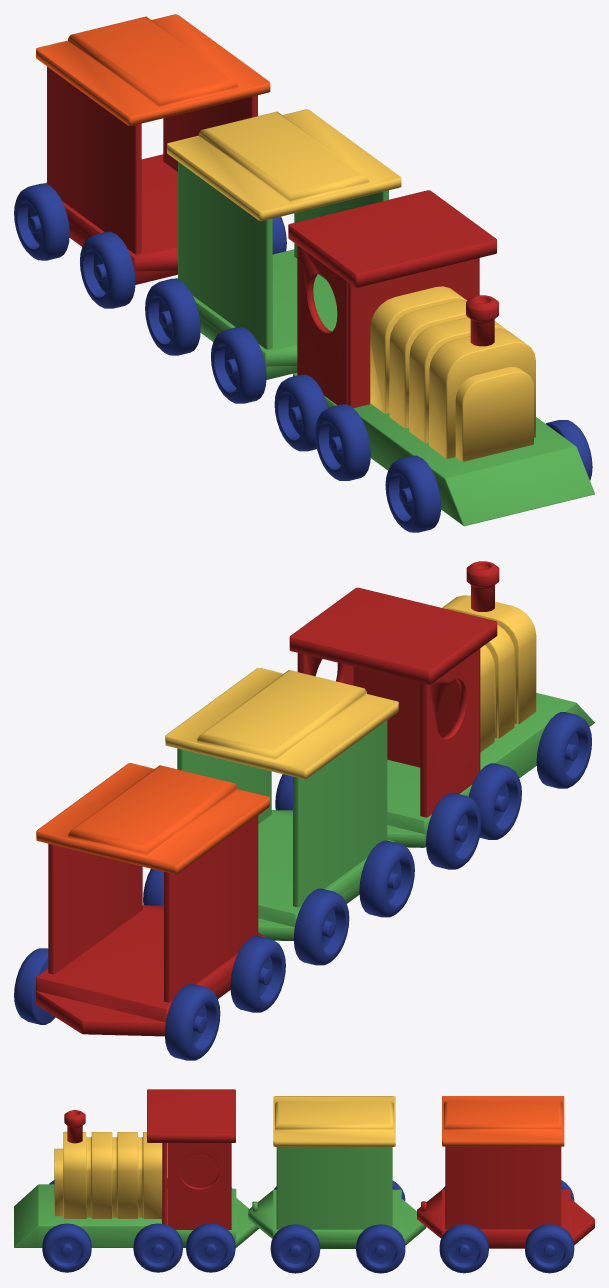
File: TrainOneBlock.fbx
3 renders of one model, top to bottom at view 1: azimuth 30°, elevation 25°; view 2: azimuth 150°, elevation 25°; view 3: azimuth 270°, elevation 25°, orthographic. The views are drawn at different scales.
Parts seen in each view (by area): view 1: Train OneBlock; view 2: Train OneBlock; view 3: Train OneBlock.
Part boxes in pixels (box(x1,y1,x2,y2)): Train OneBlock: box(14, 14, 594, 532); Train OneBlock: box(14, 561, 594, 1060); Train OneBlock: box(14, 1089, 594, 1273).
Size of the model in its own units: 94.64 by 106 by 413.
